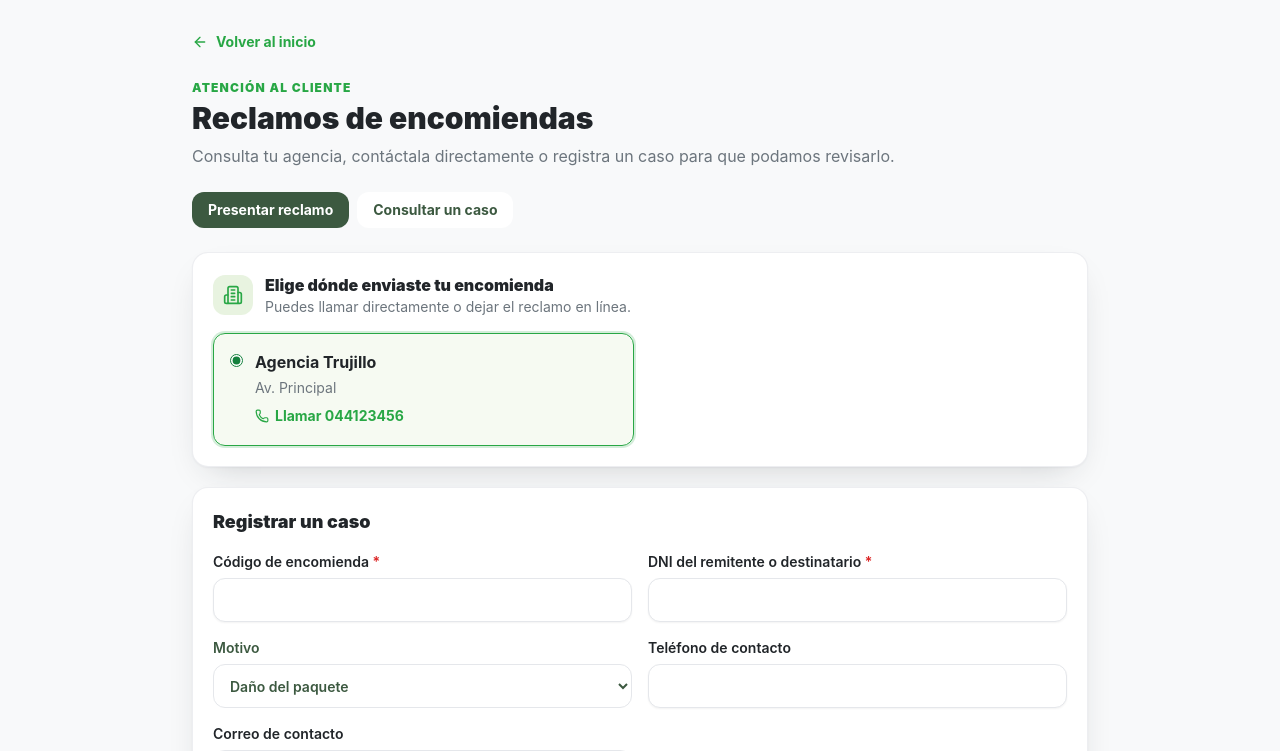
Scenario: flujo público de reclamos › autocompleta el DNI al escribir el código sin salir del campo
This screenshot has width=1280, height=751.
Expected: the text "Agencia Trujillo" is shown, [255,352,376,372]
In the field named "shipment_code": (422, 600) [213,578,632,622], type "L000001993"
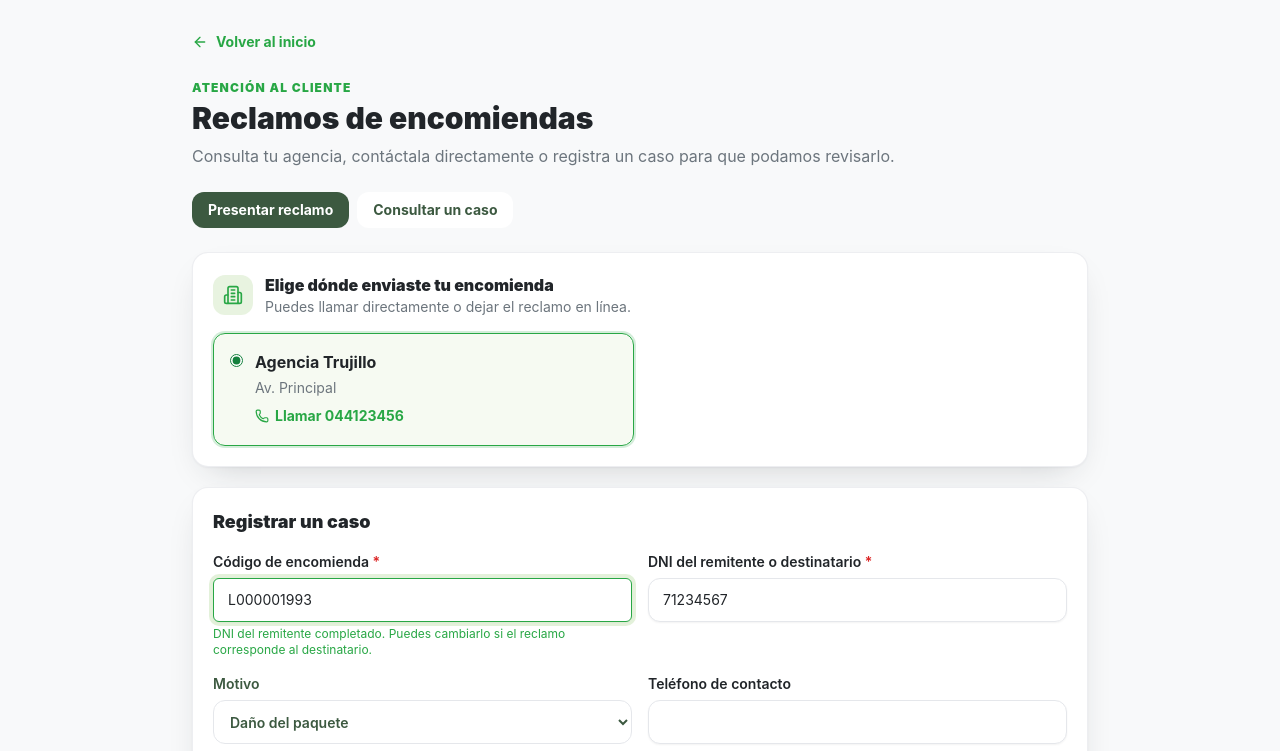
Now the field named "document_number" holds "71234567", box [648,578,1067,622]
